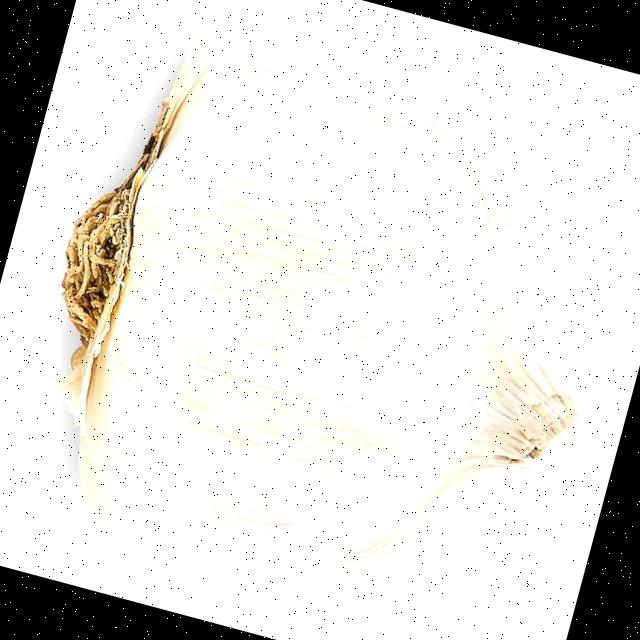garlic: (63, 23, 574, 583)
